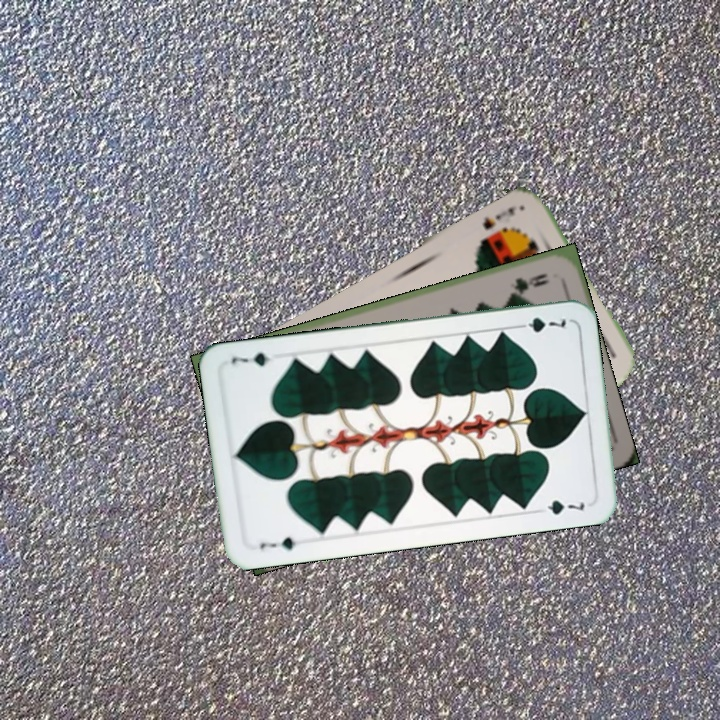G7: (511, 313, 569, 335), (255, 532, 299, 553)
G9: (506, 269, 552, 297)
SO: (478, 203, 519, 233)
